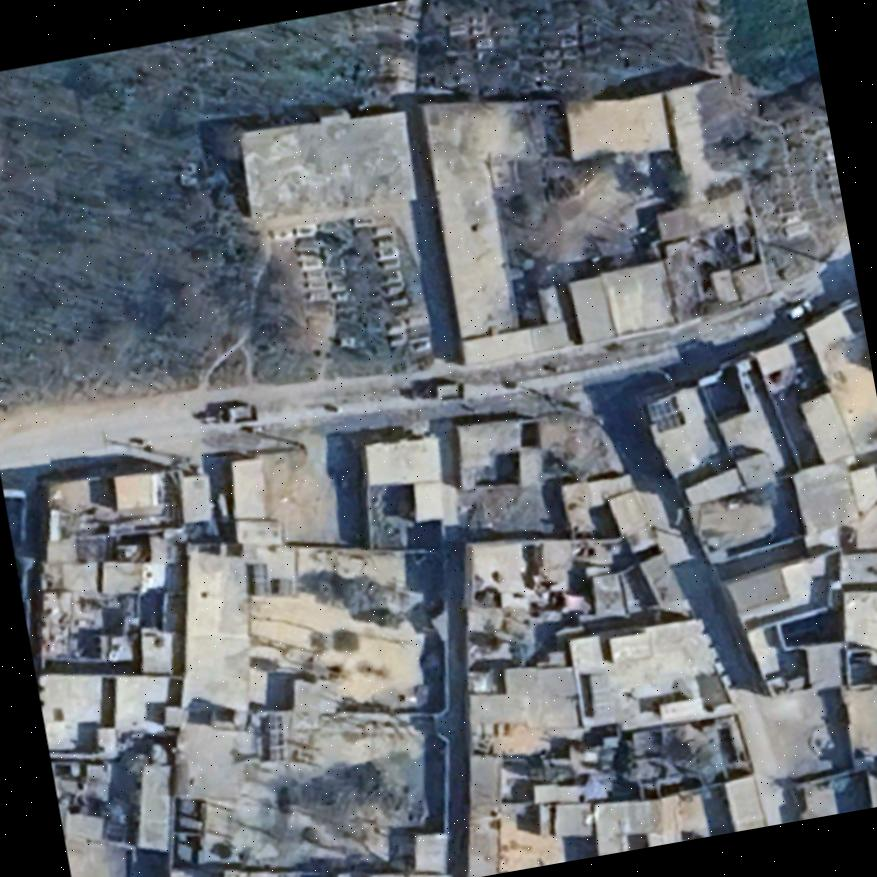Solarpanel: (639, 390, 689, 438), (240, 557, 272, 600), (263, 711, 286, 762), (267, 572, 296, 601)
